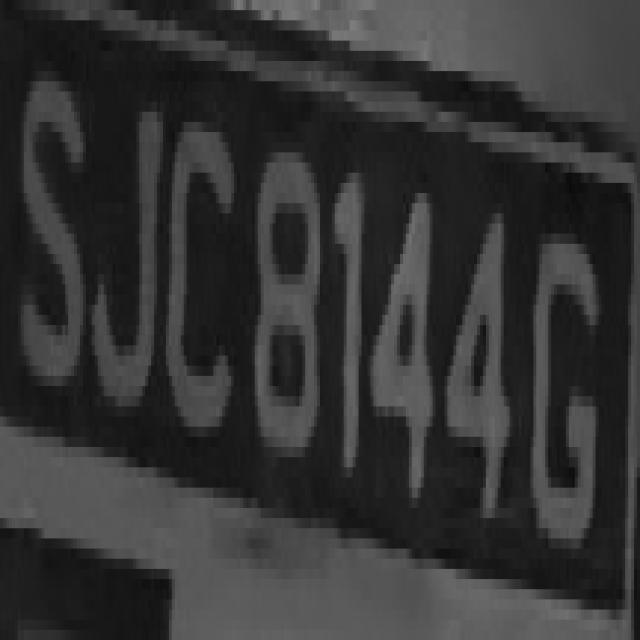1: (338, 122, 373, 528)
4: (429, 142, 518, 538), (364, 132, 436, 528)
8: (243, 101, 314, 488)
C: (166, 81, 231, 447)
G: (518, 203, 604, 569)
J: (80, 61, 163, 427)
S: (21, 20, 86, 427)
